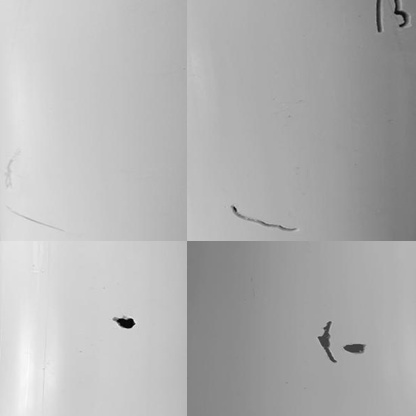fengxi: (227, 202, 302, 234), (394, 2, 412, 37), (369, 4, 382, 31)
kongdong: (315, 319, 337, 365), (109, 310, 134, 331), (342, 338, 364, 355)
